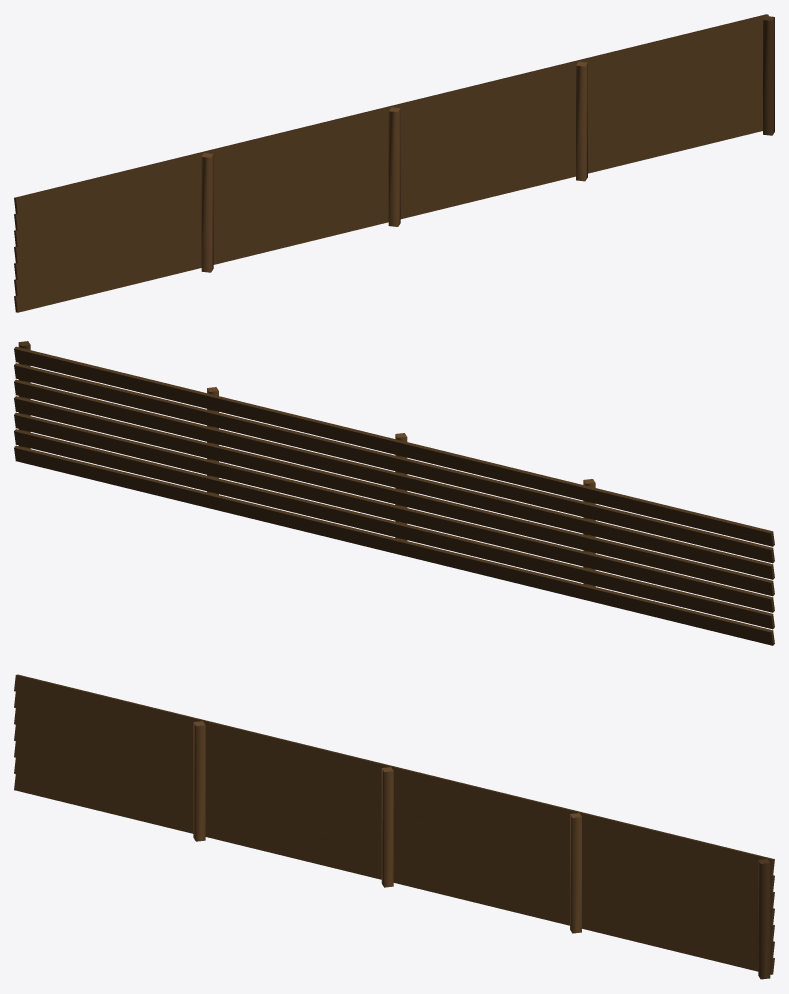
Rendered from Horizontal Fence.glb.
3 renders of one model, top to bottom at view 1: azimuth 30°, elevation 25°; view 2: azimuth 150°, elevation 25°; view 3: azimuth 330°, elevation 25°, orthographic.
Parts seen in each view (by area): view 1: Root; view 2: Root; view 3: Root.
Boxes of the visible parts, x1,y1,x2,y2 form: Root: (14, 14, 774, 312); Root: (14, 341, 774, 645); Root: (14, 674, 774, 979).
Bounding box in the file's own units: 4.45 × 0.647 × 0.1011.
